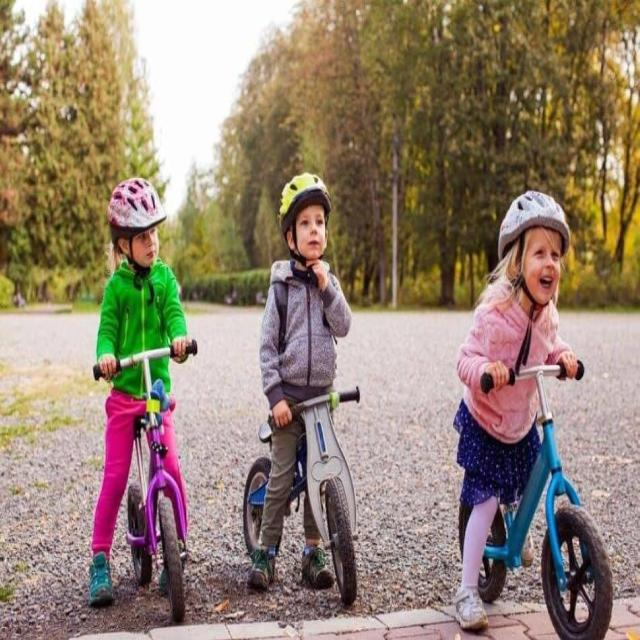Helmet: (498, 188, 572, 302), (107, 174, 167, 269), (279, 172, 331, 262)
